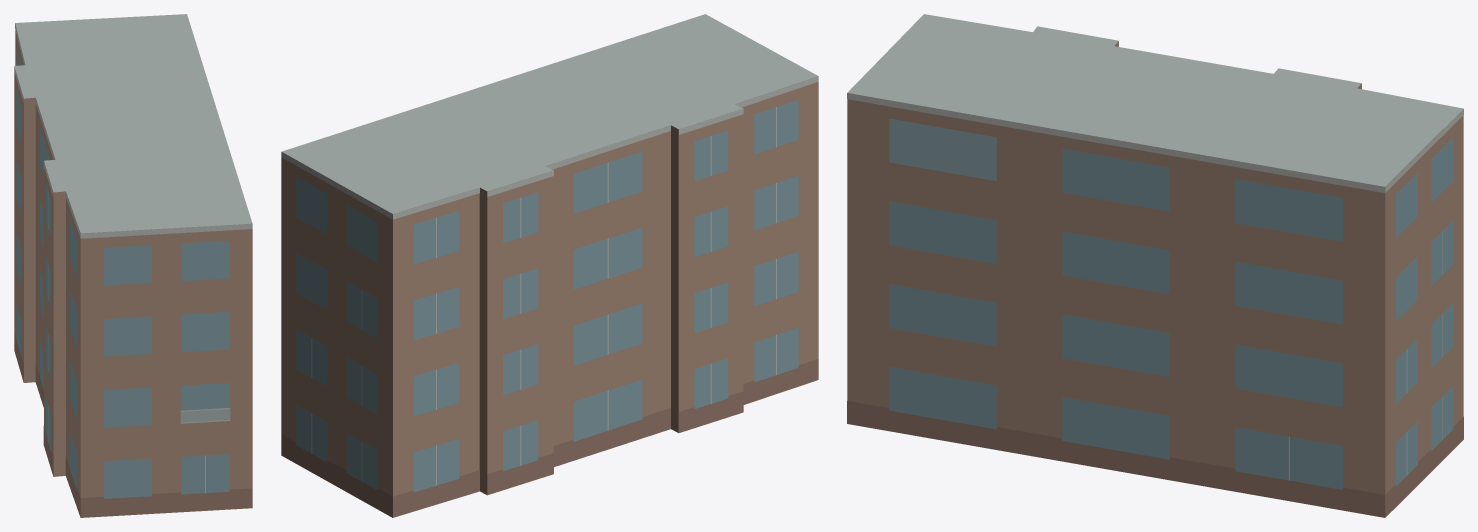
Rendered from survey-upis-32966953.glb.
The picture shows the model from 3 angles, left to right: view 1: azimuth 30°, elevation 25°; view 2: azimuth 150°, elevation 25°; view 3: azimuth 270°, elevation 25°; orthographic projection. The views are drawn at different scales.
Parts seen in each view (by area): view 1: survey-upis-32966953.tmp; view 2: survey-upis-32966953.tmp; view 3: survey-upis-32966953.tmp.
Boxes of the visible parts, x1=… form: survey-upis-32966953.tmp: x1=14, y1=14, x2=252, y2=517; survey-upis-32966953.tmp: x1=281, y1=14, x2=818, y2=517; survey-upis-32966953.tmp: x1=847, y1=14, x2=1463, y2=517.
Size of the model in its own units: 14.46 by 12.9 by 21.79.
